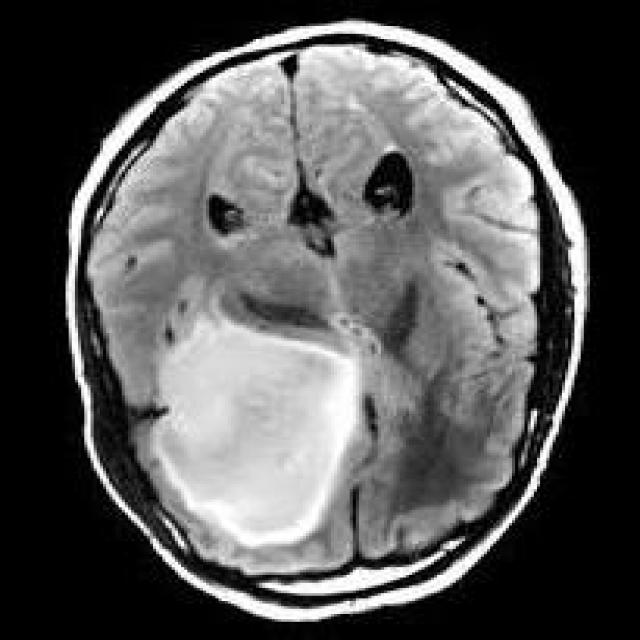Tumor-Cell: (147, 303, 375, 543)
